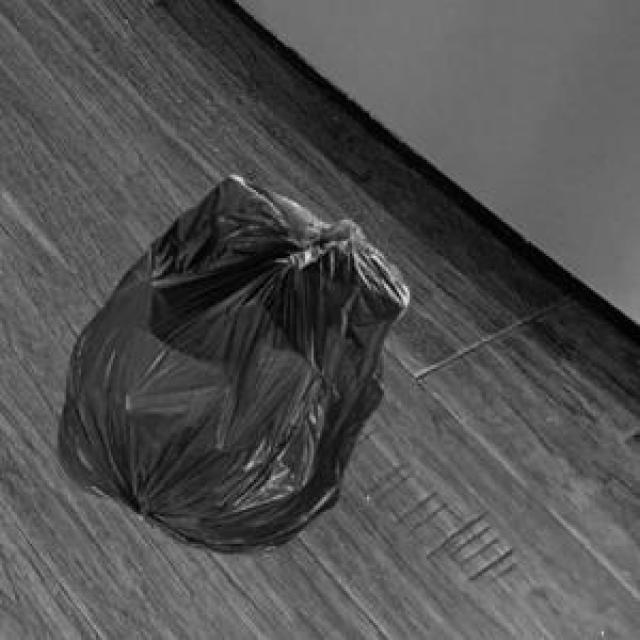miscellaneous trash: (53, 171, 405, 550)
